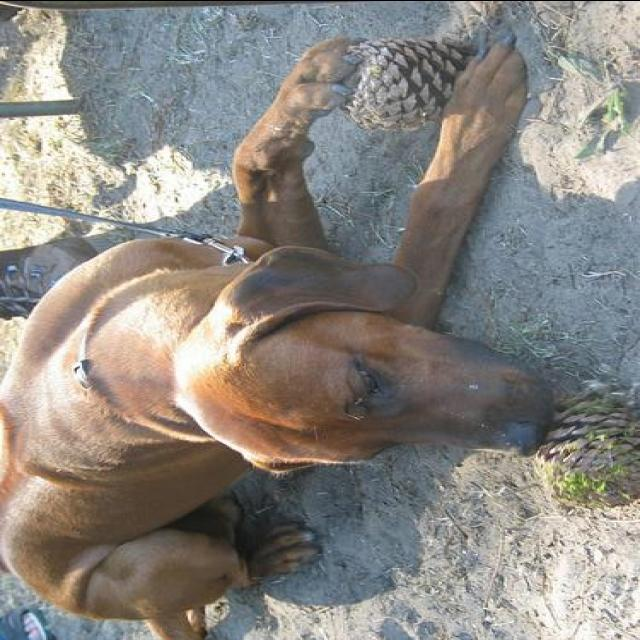rhodesian_ridgeback: (2, 30, 544, 638)
